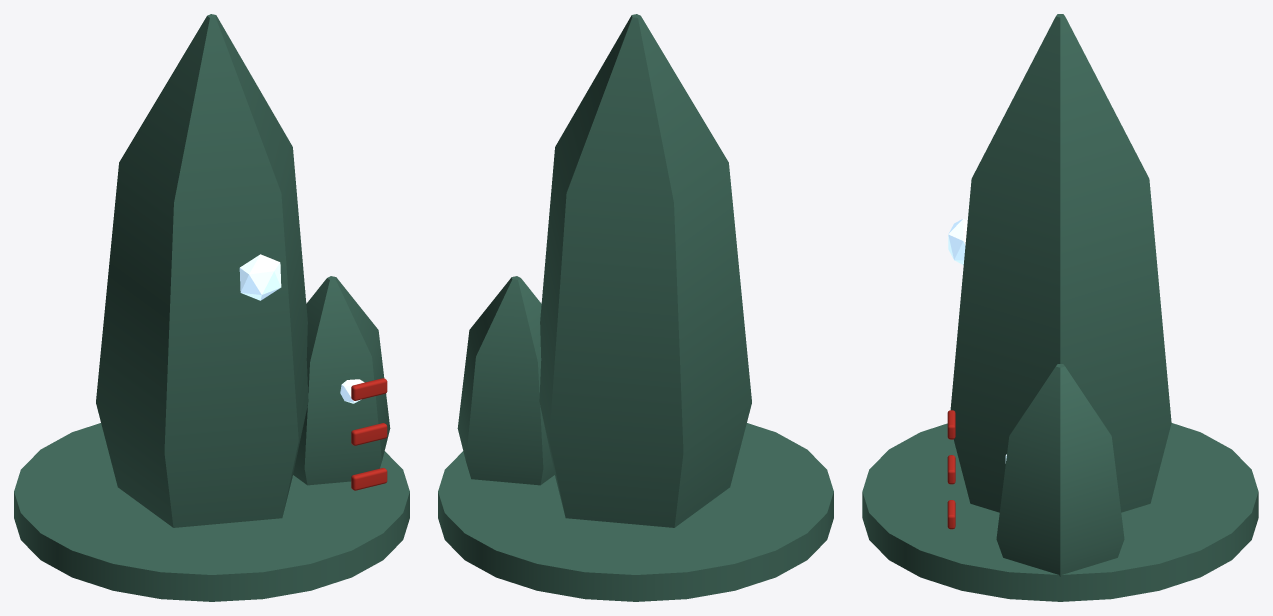
The picture shows the model from 3 angles, left to right: view 1: azimuth 30°, elevation 25°; view 2: azimuth 150°, elevation 25°; view 3: azimuth 270°, elevation 25°; orthographic projection.
Parts seen in each view (by area): view 1: Faceted crystal tower, Foundation drum, Faceted crystal tower.001, Central luminous node, Crystal red identifying inset.001, Crystal red identifying inset, Crystal red identifying inset.002; view 2: Faceted crystal tower, Foundation drum, Faceted crystal tower.001; view 3: Faceted crystal tower, Foundation drum, Faceted crystal tower.001, Central luminous node.
Part boxes in pixels (x1=…): Faceted crystal tower: x1=96, y1=14, x2=308, y2=527; Foundation drum: x1=14, y1=423, x2=409, y2=601; Faceted crystal tower.001: x1=293, y1=276, x2=390, y2=485; Central luminous node: x1=239, y1=254, x2=281, y2=300; Crystal red identifying inset.001: x1=351, y1=423, x2=387, y2=445; Crystal red identifying inset: x1=351, y1=468, x2=387, y2=490; Crystal red identifying inset.002: x1=351, y1=378, x2=387, y2=400; Faceted crystal tower: x1=539, y1=14, x2=751, y2=527; Foundation drum: x1=438, y1=423, x2=833, y2=601; Faceted crystal tower.001: x1=457, y1=276, x2=554, y2=485; Faceted crystal tower: x1=950, y1=14, x2=1171, y2=512; Foundation drum: x1=862, y1=423, x2=1258, y2=601; Faceted crystal tower.001: x1=996, y1=364, x2=1124, y2=576; Central luminous node: x1=948, y1=218, x2=967, y2=264.
Bounding box in the file's own units: 2.04 × 2.8 × 2.
